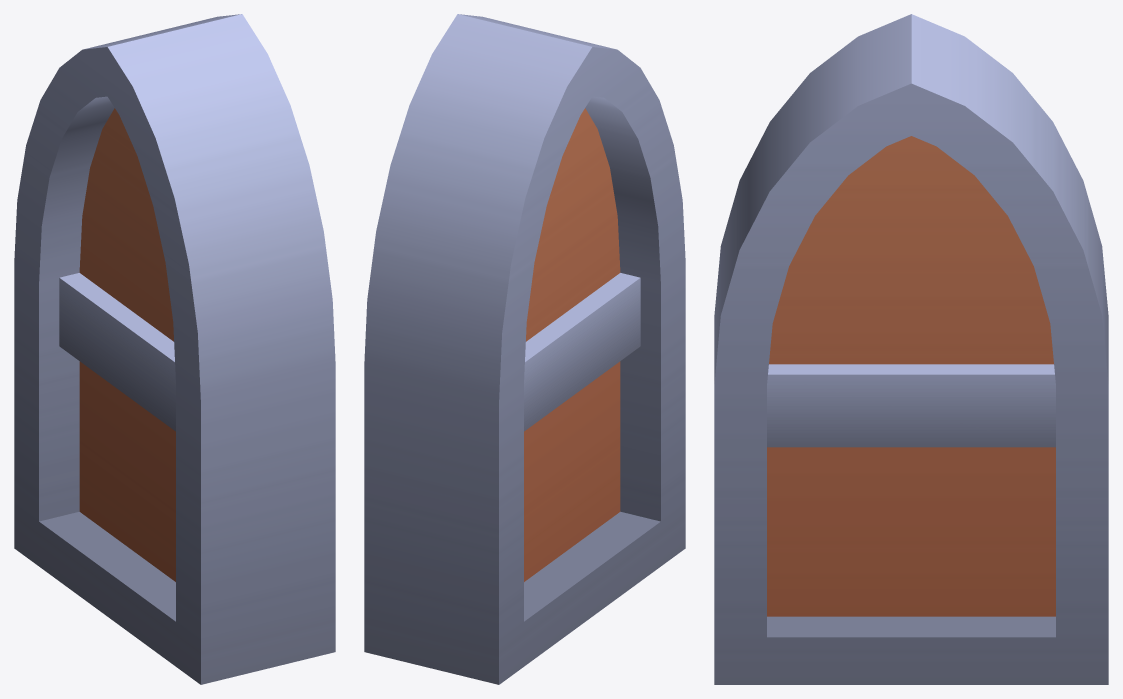
Rendered from door.obj.
The picture shows the model from 3 angles, left to right: view 1: azimuth 30°, elevation 25°; view 2: azimuth 150°, elevation 25°; view 3: azimuth 270°, elevation 25°; orthographic projection. The views are drawn at different scales.
Parts seen in each view (by area): view 1: door; view 2: door; view 3: door.
Part boxes in pixels (left/top/right/bottom): door: left=14, top=14, right=335, bottom=684; door: left=364, top=14, right=685, bottom=684; door: left=714, top=14, right=1108, bottom=684.
Bounding box in the file's own units: 0.15 × 0.6053 × 0.3594.
Materials: 1 (1 with a texture image).
